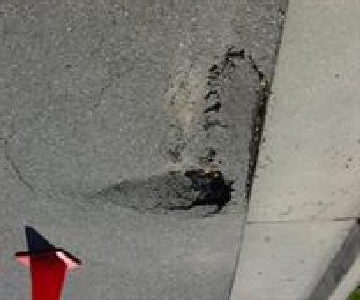pothole: (200, 44, 274, 215), (96, 166, 236, 215)
